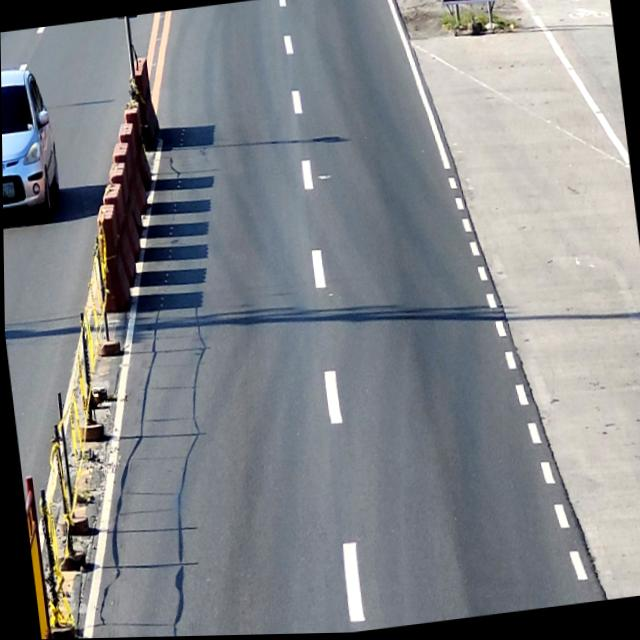Car: (1, 64, 63, 226)
License-Plate: (2, 182, 14, 199)
